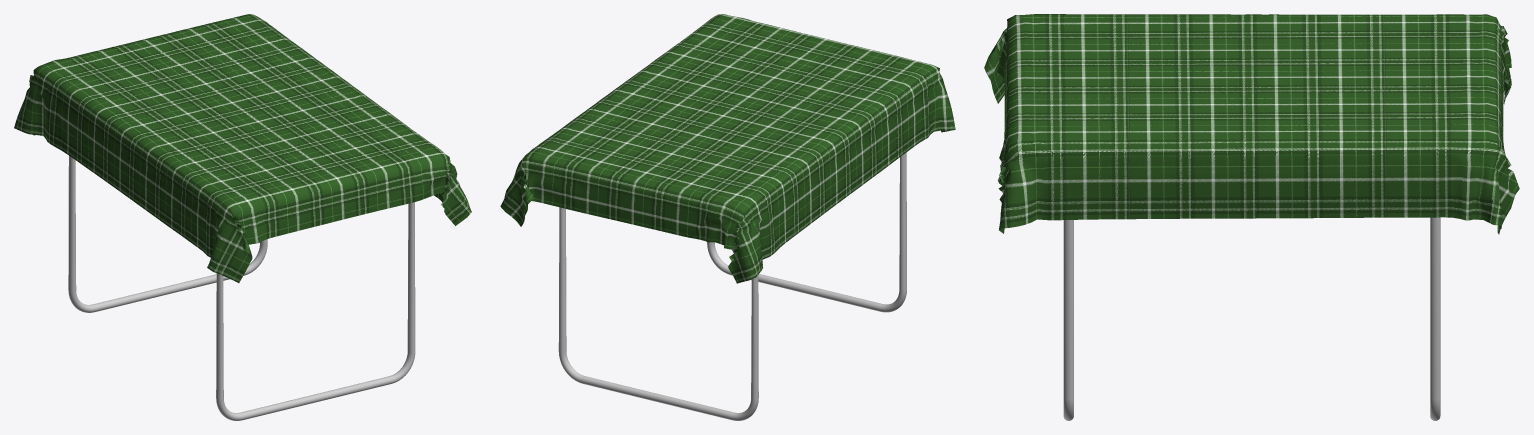
Rendered from tableMetal2.fbx.
3 renders of one model, left to right at view 1: azimuth 30°, elevation 25°; view 2: azimuth 150°, elevation 25°; view 3: azimuth 270°, elevation 25°, orthographic. The views are drawn at different scales.
Parts seen in each view (by area): view 1: Plane, table; view 2: Plane, table; view 3: Plane, table.
Boxes of the visible parts, <box> form: Plane: <box>14,14,471,282</box>; table: <box>68,156,415,420</box>; Plane: <box>500,14,955,283</box>; table: <box>558,152,906,420</box>; Plane: <box>984,14,1519,234</box>; table: <box>1063,217,1440,420</box>.
Bounding box in the file's own units: 81.84 × 71.9 × 118.
